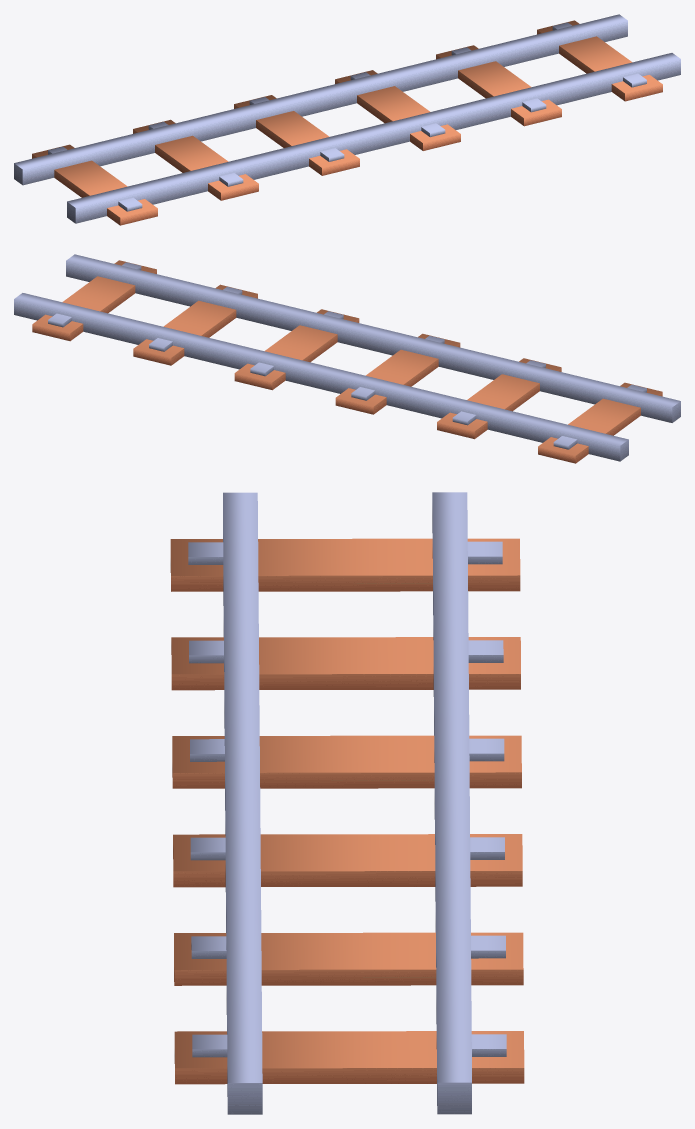
Rendered from railroad-straight.019_lev2.glb.
3 views of the same model, one above another, from view 1: azimuth 30°, elevation 25°; view 2: azimuth 150°, elevation 25°; view 3: azimuth 270°, elevation 25° (orthographic). The views are drawn at different scales.
Visible parts, largest first — view 1: railroad-straight.019_lev2; view 2: railroad-straight.019_lev2; view 3: railroad-straight.019_lev2.
Part boxes in pixels (bbox=[...]): railroad-straight.019_lev2: bbox=[14, 14, 680, 225]; railroad-straight.019_lev2: bbox=[14, 254, 680, 463]; railroad-straight.019_lev2: bbox=[170, 492, 524, 1114].
Size of the model in its own units: 4 by 0.1 by 1.01.
Materials: 1 (1 with a texture image).
